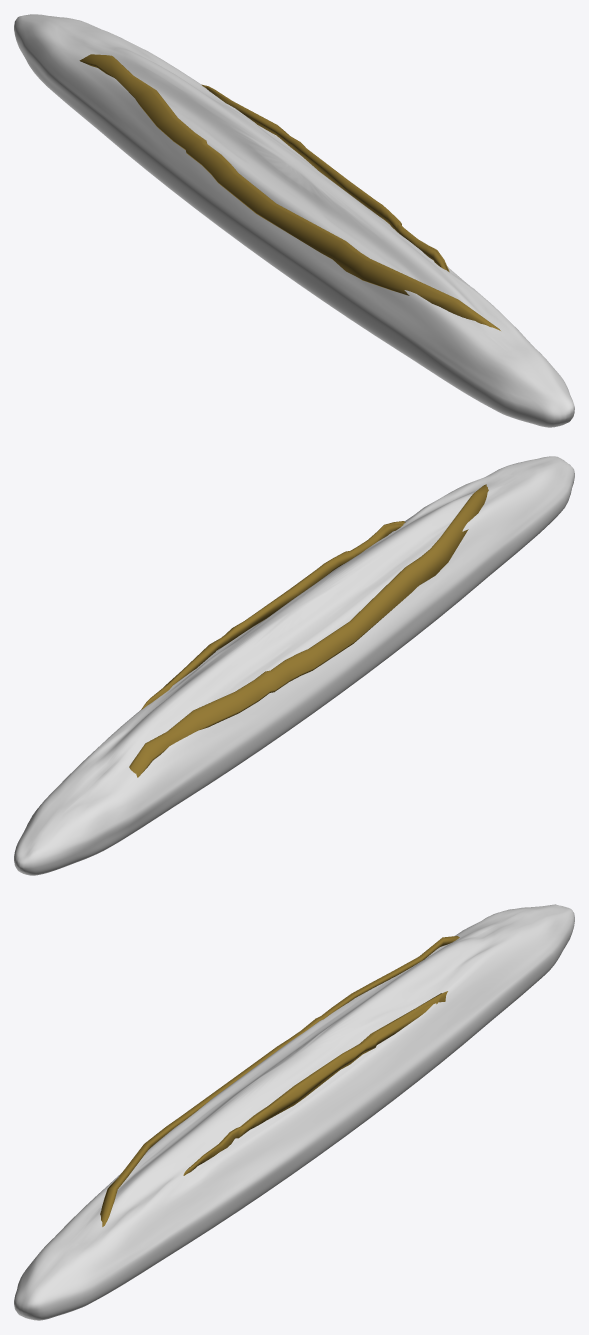
Rendered from Baguette 1.fbx.
3 renders of one model, top to bottom at view 1: azimuth 30°, elevation 25°; view 2: azimuth 150°, elevation 25°; view 3: azimuth 330°, elevation 25°, orthographic.
Visible parts, largest first — view 1: Baguette, Dought.002, Dought.003; view 2: Baguette, Dought.002, Dought.003; view 3: Baguette, Dought.003, Dought.002.
Part boxes in pixels (<box>): Baguette: <box>14,14,574,427</box>; Dought.002: <box>79,54,500,330</box>; Dought.003: <box>201,84,449,272</box>; Baguette: <box>14,456,574,875</box>; Dought.002: <box>129,484,488,777</box>; Dought.003: <box>141,521,405,709</box>; Baguette: <box>14,904,574,1320</box>; Dought.003: <box>183,991,447,1175</box>; Dought.002: <box>100,936,459,1226</box>.
Size of the model in its own units: 60.84 by 43.79 by 556.
